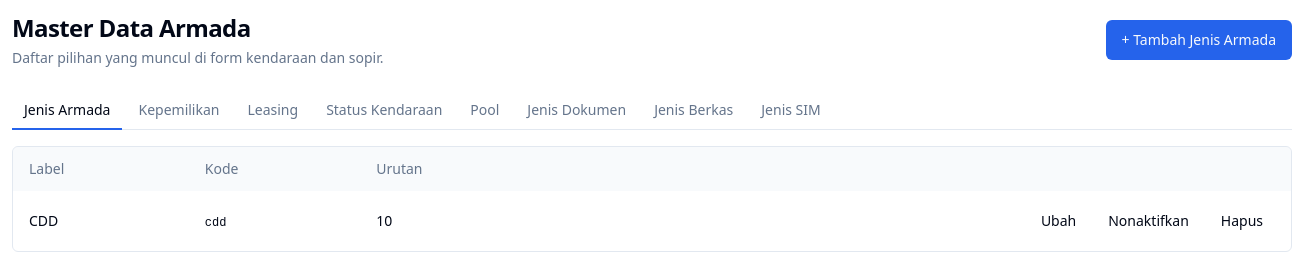
it: FleetMasterDataPage › renders the em dash only when the row genuinely has no threshold
The width and height of the screenshot is (1304, 269).
Click the tab "Jenis Dokumen".
click(577, 111)  # box top-left (515, 92), bottom-right (638, 130)
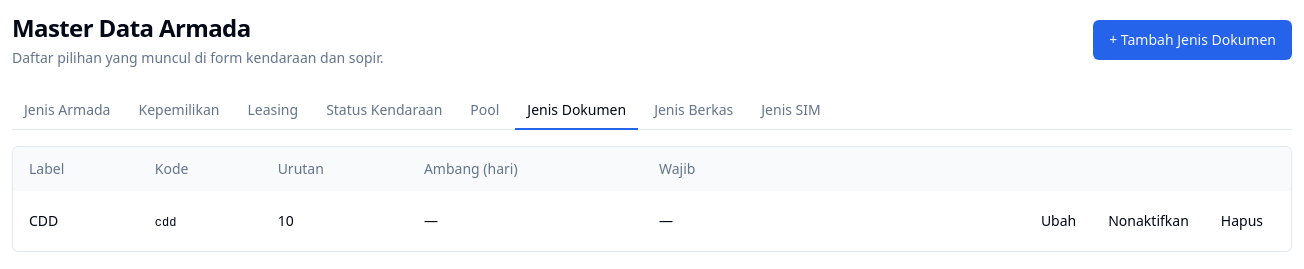
Expected: the 1st cell "—" is shown, top-left (408, 191), bottom-right (643, 251)
